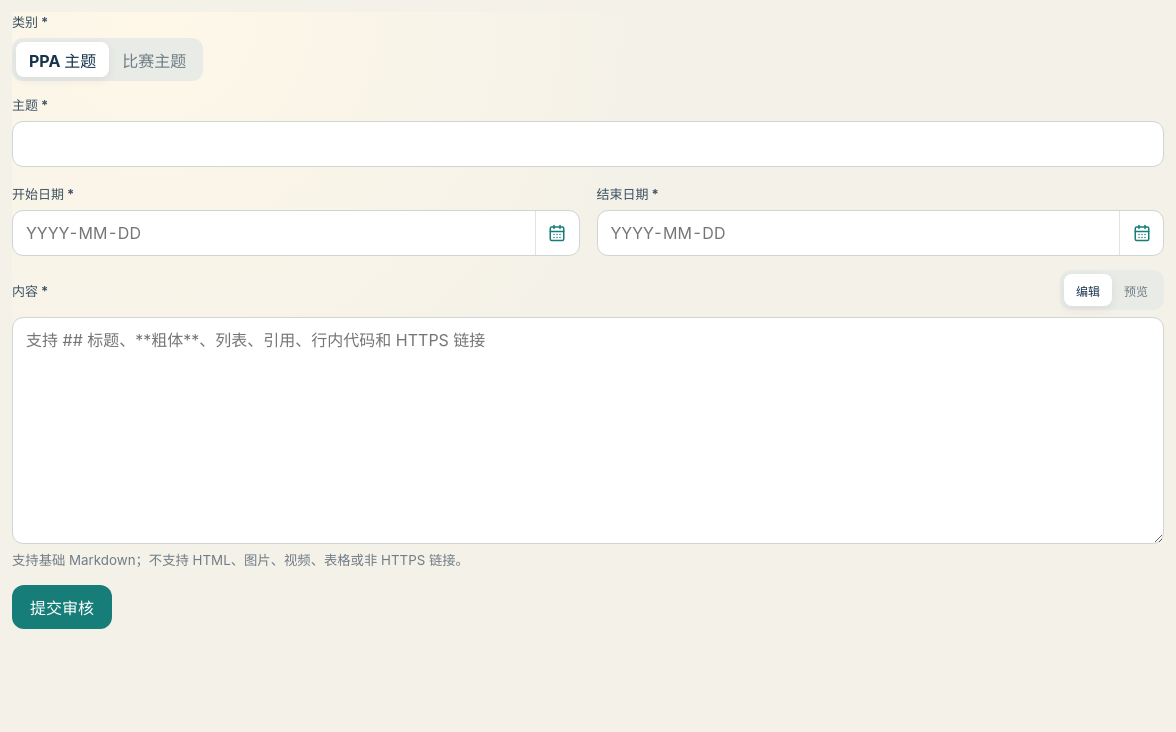
Test: ImportantItemForm › accepts direct eight-digit typing without expanding the year
Type "20260101" into the field with id "important-start" at {"x": 296, "y": 233}, box [12,210,580,256]
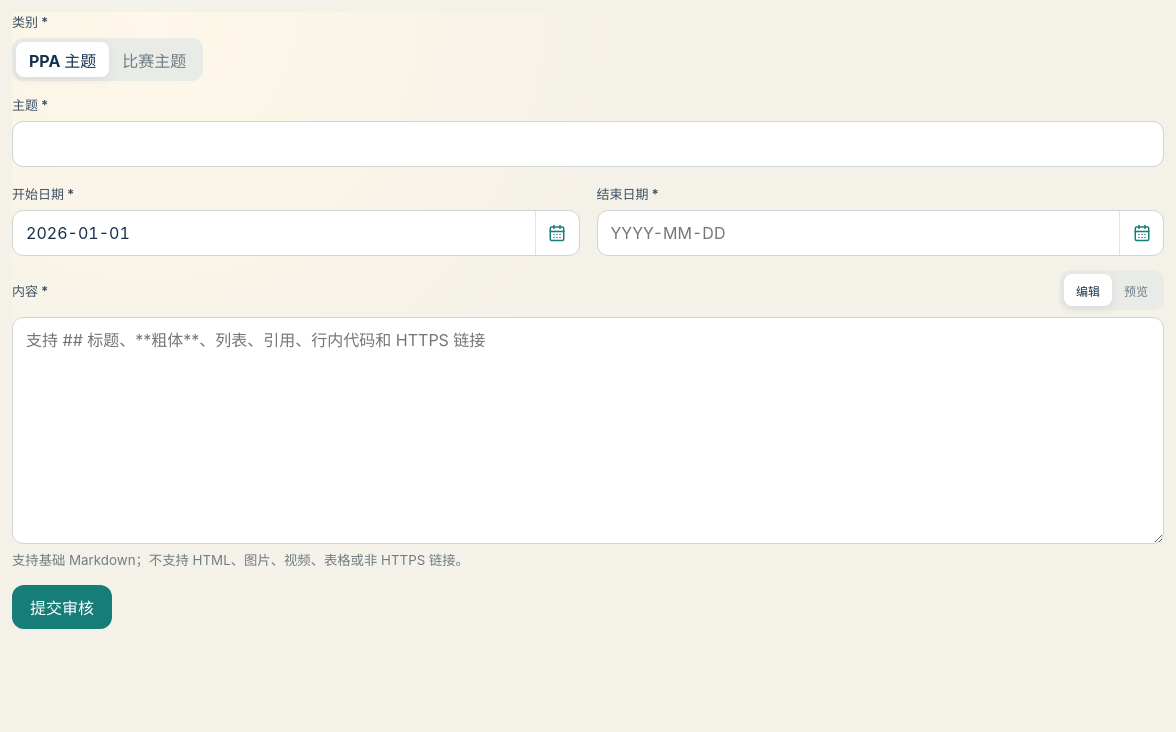
expect the field with id "important-start" holds "2026-01-01": met, box [12,210,580,256]
